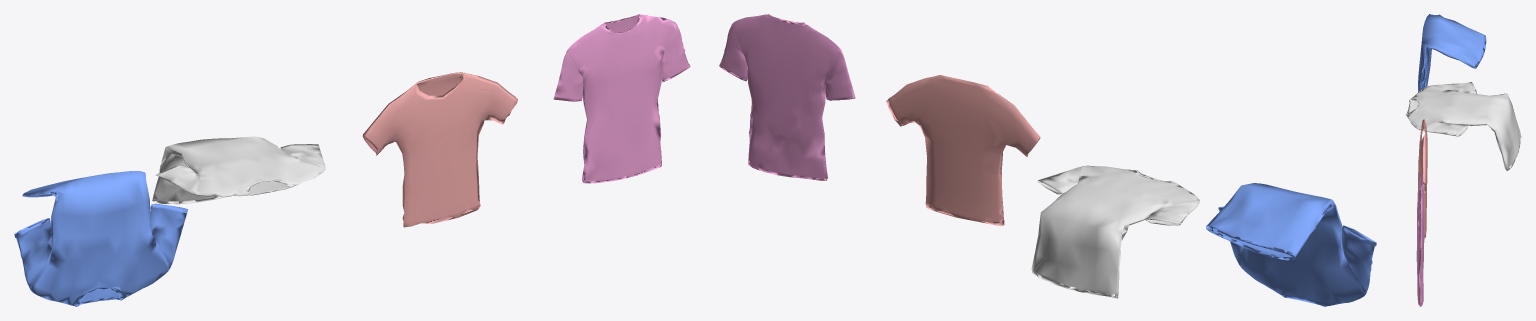
The model's file is dirty-clothes.fbx.
3 renders of one model, left to right at view 1: azimuth 30°, elevation 25°; view 2: azimuth 150°, elevation 25°; view 3: azimuth 270°, elevation 25°, orthographic. The views are drawn at different scales.
Visible parts, largest first — view 1: tshirt, tshirt.002, shirt, tshirt.001; view 2: tshirt.002, tshirt, shirt, tshirt.001; view 3: tshirt.001, tshirt, tshirt.002, shirt.
Part boxes in pixels (<box>): tshirt: <box>14,171,188,306</box>; tshirt.002: <box>553,14,690,183</box>; shirt: <box>362,72,517,227</box>; tshirt.001: <box>152,136,325,204</box>; tshirt.002: <box>719,14,855,180</box>; tshirt: <box>1206,183,1376,306</box>; shirt: <box>886,75,1040,225</box>; tshirt.001: <box>1031,165,1199,298</box>; tshirt.001: <box>1405,82,1521,170</box>; tshirt: <box>1418,14,1486,91</box>; tshirt.002: <box>1416,171,1424,306</box>; shirt: <box>1417,119,1427,238</box>.
Size of the model in its own units: 661 by 151 by 137.
